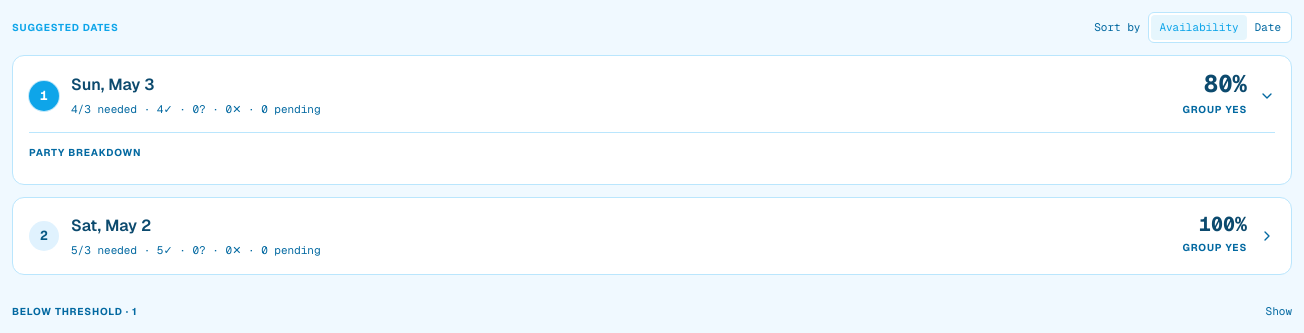
Test: RankedList › switching to chronological mode shows all rows in date order with no below-threshold section
Click the radio button with test id "sort-by-date".
click(1268, 27)  # box 1247,15 -> 1289,40
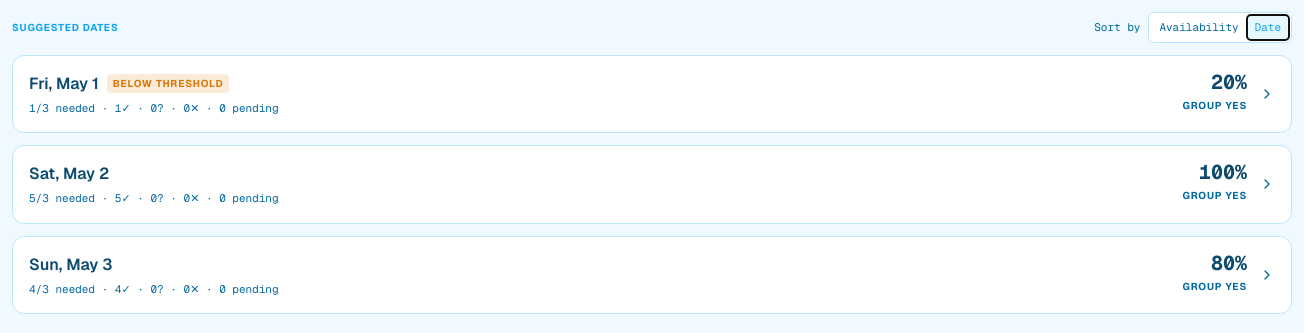
Now the button with test id "below-threshold-toggle" is gone
